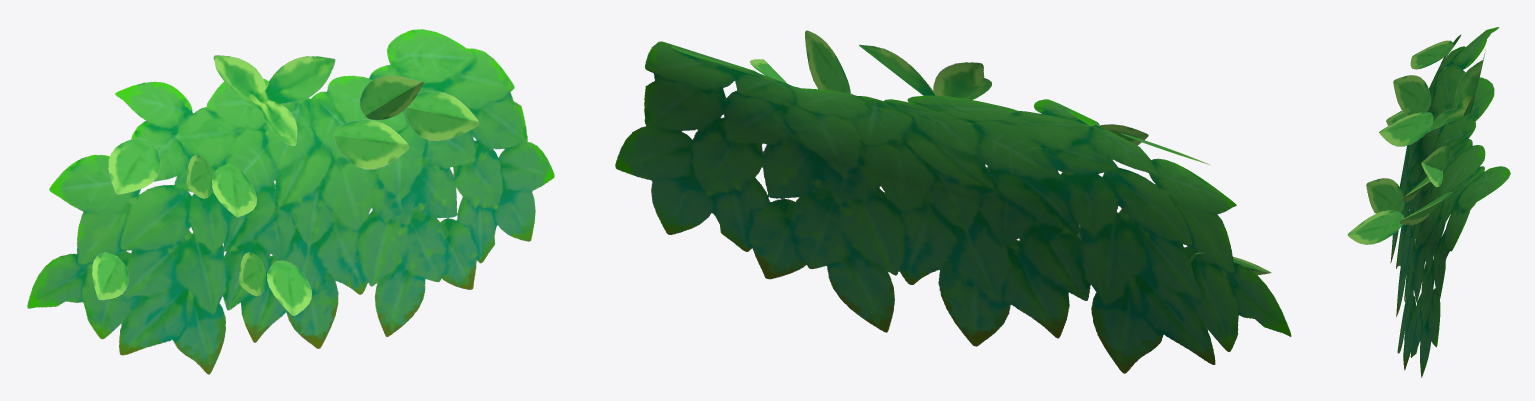
Rendered from Flower_01_Leaf_a.fbx.
3 views of the same model, side by side, from view 1: azimuth 30°, elevation 25°; view 2: azimuth 150°, elevation 25°; view 3: azimuth 270°, elevation 25° (orthographic). The views are drawn at different scales.
Visible parts, largest first — view 1: Leaf_01_a; view 2: Leaf_01_a; view 3: Leaf_01_a.
Part boxes in pixels (x1,y1,x2,y2): Leaf_01_a: (27,29,554,374); Leaf_01_a: (615,30,1291,373); Leaf_01_a: (1347,27,1510,377).
Size of the model in its own units: 111 by 55.44 by 35.91.
